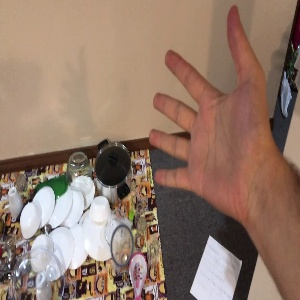hand: (149, 6, 267, 214)
